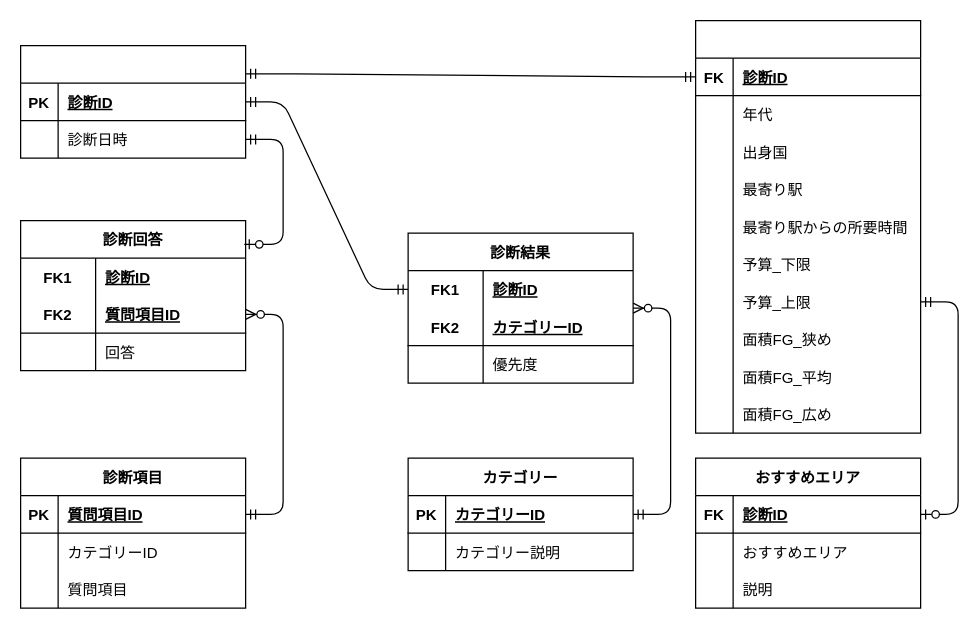
Image size: 979x629. Some labels were removed from this diagram. Each missing label, with the box of its shape:
基本情報: (694, 19, 921, 433)
診断: (19, 44, 246, 158)
